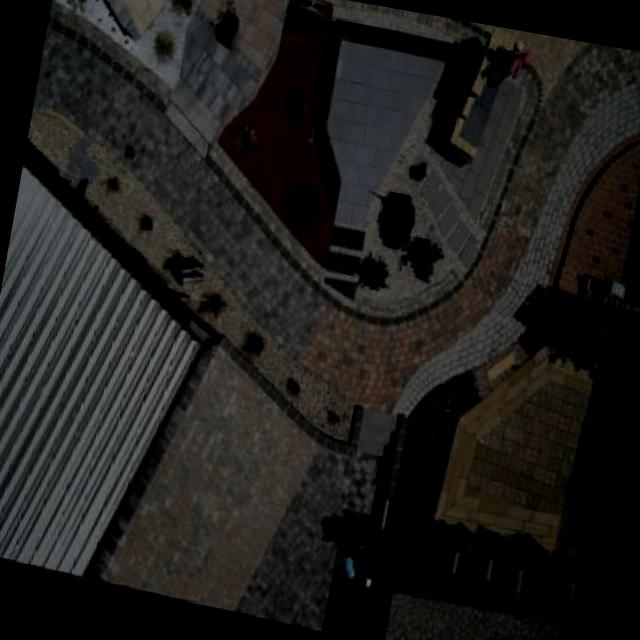Person: (480, 30, 543, 104)
